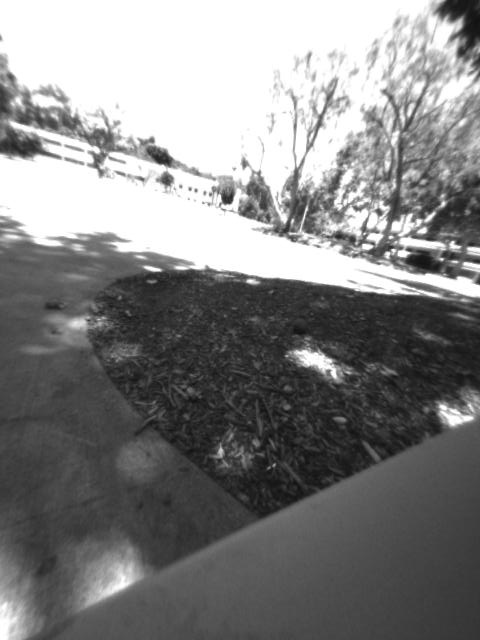dogtoy: (285, 311, 313, 340)
